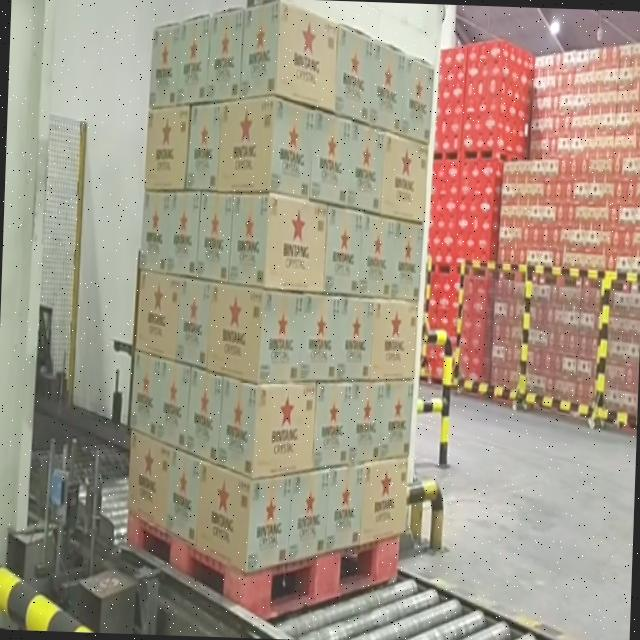pallet: (118, 2, 432, 640)
